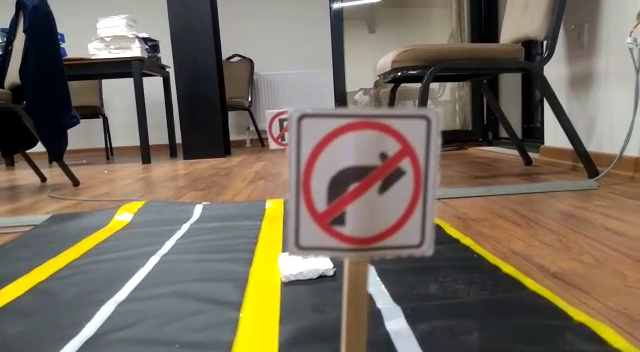park_yapilmaz: (265, 110, 293, 149)
saga_donulmez: (303, 117, 426, 248)
